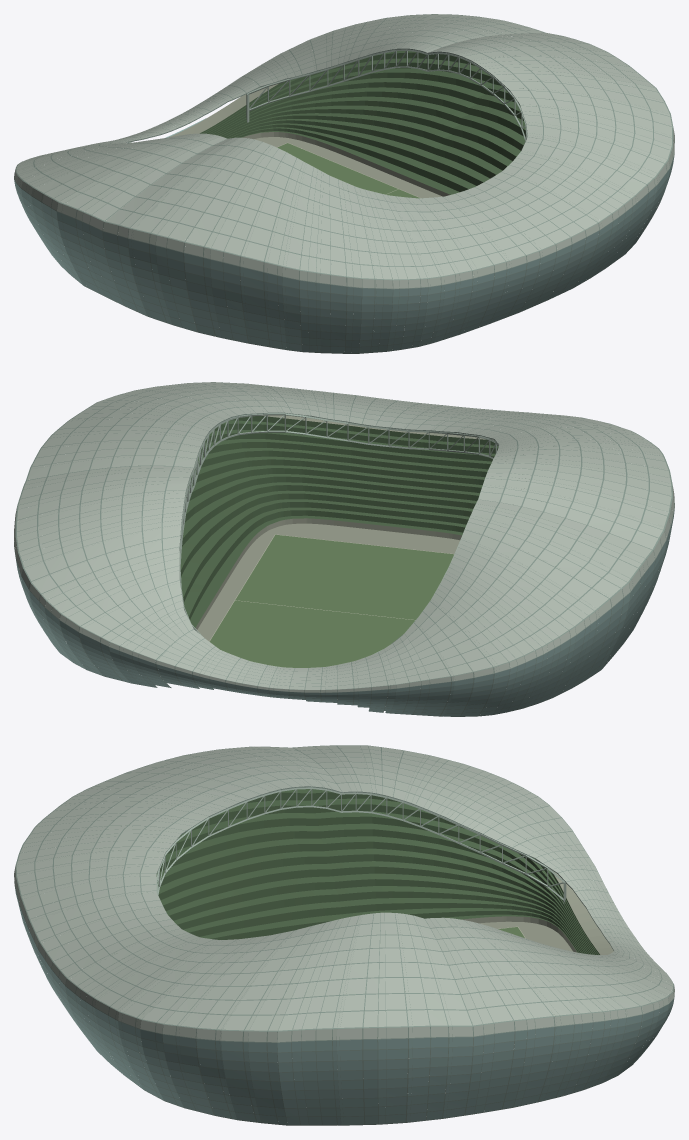
The model's file is aviva-stadium-near.glb.
The picture shows the model from 3 angles, top to bottom: view 1: azimuth 30°, elevation 25°; view 2: azimuth 150°, elevation 25°; view 3: azimuth 270°, elevation 25°; orthographic projection. The views are drawn at different scales.
Parts seen in each view (by area): view 1: aviva-stadium-0-shingle, aviva-stadium-0-glass, aviva-stadium-0-frame, aviva-stadium-0-seats, aviva-stadium-0-concrete, aviva-stadium-0-steel, aviva-stadium-0-pitch; view 2: aviva-stadium-0-shingle, aviva-stadium-0-seats, aviva-stadium-0-frame, aviva-stadium-0-pitch, aviva-stadium-0-glass, aviva-stadium-0-concrete, aviva-stadium-0-steel; view 3: aviva-stadium-0-shingle, aviva-stadium-0-seats, aviva-stadium-0-glass, aviva-stadium-0-frame, aviva-stadium-0-steel, aviva-stadium-0-concrete.
Boxes of the visible parts, x1,y1,x2,y2 form: aviva-stadium-0-shingle: [14, 14, 674, 288]; aviva-stadium-0-glass: [14, 118, 674, 353]; aviva-stadium-0-frame: [14, 14, 674, 353]; aviva-stadium-0-seats: [200, 51, 528, 194]; aviva-stadium-0-concrete: [168, 83, 450, 198]; aviva-stadium-0-steel: [127, 49, 527, 187]; aviva-stadium-0-pitch: [161, 143, 419, 201]; aviva-stadium-0-shingle: [14, 382, 674, 692]; aviva-stadium-0-seats: [135, 416, 498, 627]; aviva-stadium-0-frame: [14, 382, 674, 716]; aviva-stadium-0-pitch: [209, 534, 453, 667]; aviva-stadium-0-glass: [14, 509, 674, 716]; aviva-stadium-0-concrete: [195, 415, 568, 641]; aviva-stadium-0-steel: [179, 413, 499, 653]; aviva-stadium-0-shingle: [14, 745, 674, 1042]; aviva-stadium-0-seats: [156, 789, 599, 1040]; aviva-stadium-0-glass: [14, 886, 674, 1125]; aviva-stadium-0-frame: [14, 745, 674, 1125]; aviva-stadium-0-steel: [156, 787, 566, 913]; aviva-stadium-0-concrete: [126, 816, 613, 1012].
Bounding box in the file's own units: 217 × 49.99 × 204.
